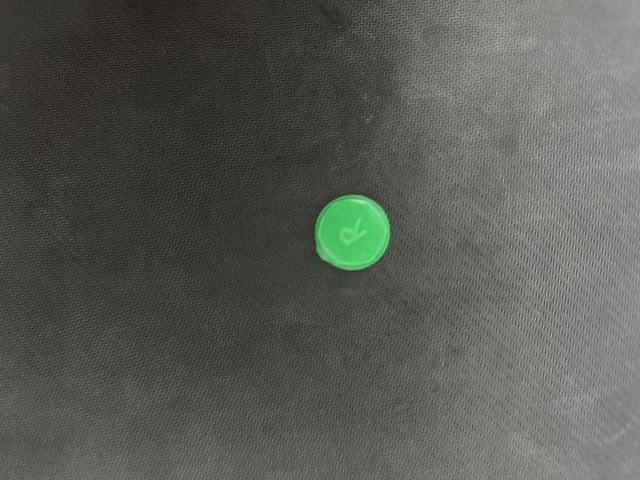Plastik: (310, 187, 397, 276)
